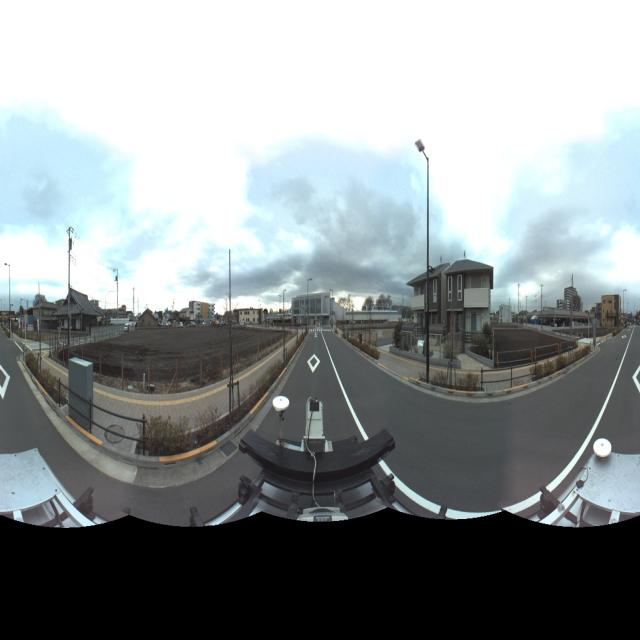b_1: (442, 257, 494, 359), (416, 260, 448, 342), (290, 293, 336, 346), (234, 300, 269, 339), (188, 290, 216, 330), (600, 285, 622, 332)
